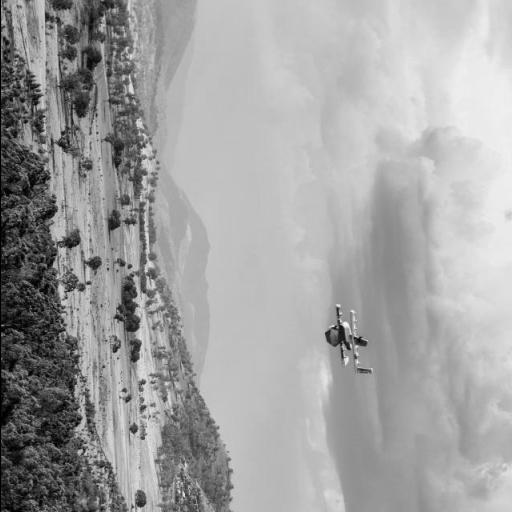uav: (306, 290, 372, 380)
